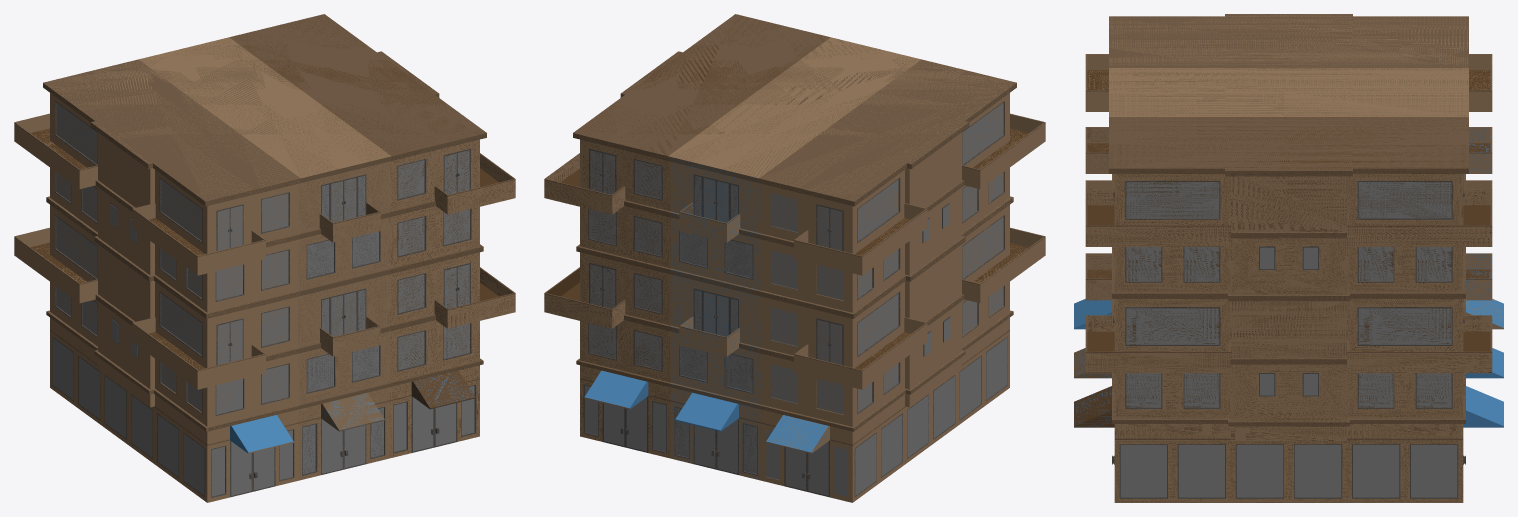
File: new_H_MIX_reload.dae
3 renders of one model, left to right at view 1: azimuth 30°, elevation 25°; view 2: azimuth 150°, elevation 25°; view 3: azimuth 270°, elevation 25°, orthographic. The views are drawn at different scales.
Parts seen in each view (by area): view 1: Rowhouse_Right_End_1 (×22), Rowhouse_Right_End, Rowhouse_Left_End_1 (×10), Rowhouse_M_Face_1 (×12), Rowhouse_Left_End, Rowhouse_Middle_1, Retail_Doors (×6); view 2: Rowhouse_Right_End_1 (×22), Rowhouse_Right_End, Rowhouse_Left_End_1 (×10), Rowhouse_M_Face_1 (×12), Rowhouse_Left_End, Rowhouse_Middle_1, Retail_Doors (×6); view 3: Rowhouse_Left_End, Rowhouse_Left_End_1 (×29), Rowhouse_Right_End_1 (×3), Rowhouse_Middle_1, Rowhouse_M_Face_1 (×6), Rowhouse_Right_End.
Boxes of the visible parts, left/top/right/bottom form: Rowhouse_Right_End_1 (×22): left=43, top=59, right=300, bottom=502; Rowhouse_Right_End: left=14, top=93, right=298, bottom=444; Rowhouse_Left_End_1 (×10): left=229, top=14, right=486, bottom=451; Rowhouse_M_Face_1 (×12): left=298, top=162, right=390, bottom=480; Rowhouse_Left_End: left=389, top=139, right=515, bottom=458; Rowhouse_Middle_1: left=138, top=37, right=391, bottom=178; Retail_Doors (×6): left=231, top=397, right=455, bottom=495; Rowhouse_Right_End_1 (×22): left=759, top=59, right=1016, bottom=502; Rowhouse_Right_End: left=761, top=93, right=1045, bottom=444; Rowhouse_Left_End_1 (×10): left=573, top=14, right=830, bottom=451; Rowhouse_M_Face_1 (×12): left=669, top=162, right=761, bottom=480; Rowhouse_Left_End: left=544, top=139, right=670, bottom=458; Rowhouse_Middle_1: left=668, top=37, right=921, bottom=178; Retail_Doors (×6): left=604, top=397, right=828, bottom=495; Rowhouse_Left_End: left=1085, top=174, right=1492, bottom=502; Rowhouse_Left_End_1 (×29): left=1074, top=117, right=1503, bottom=497; Rowhouse_Right_End_1 (×3): left=1074, top=14, right=1503, bottom=329; Rowhouse_Middle_1: left=1109, top=68, right=1468, bottom=116; Rowhouse_M_Face_1 (×6): left=1074, top=127, right=1503, bottom=378; Rowhouse_Right_End: left=1085, top=54, right=1492, bottom=188.
Size of the model in its own units: 840 by 888 by 768.
